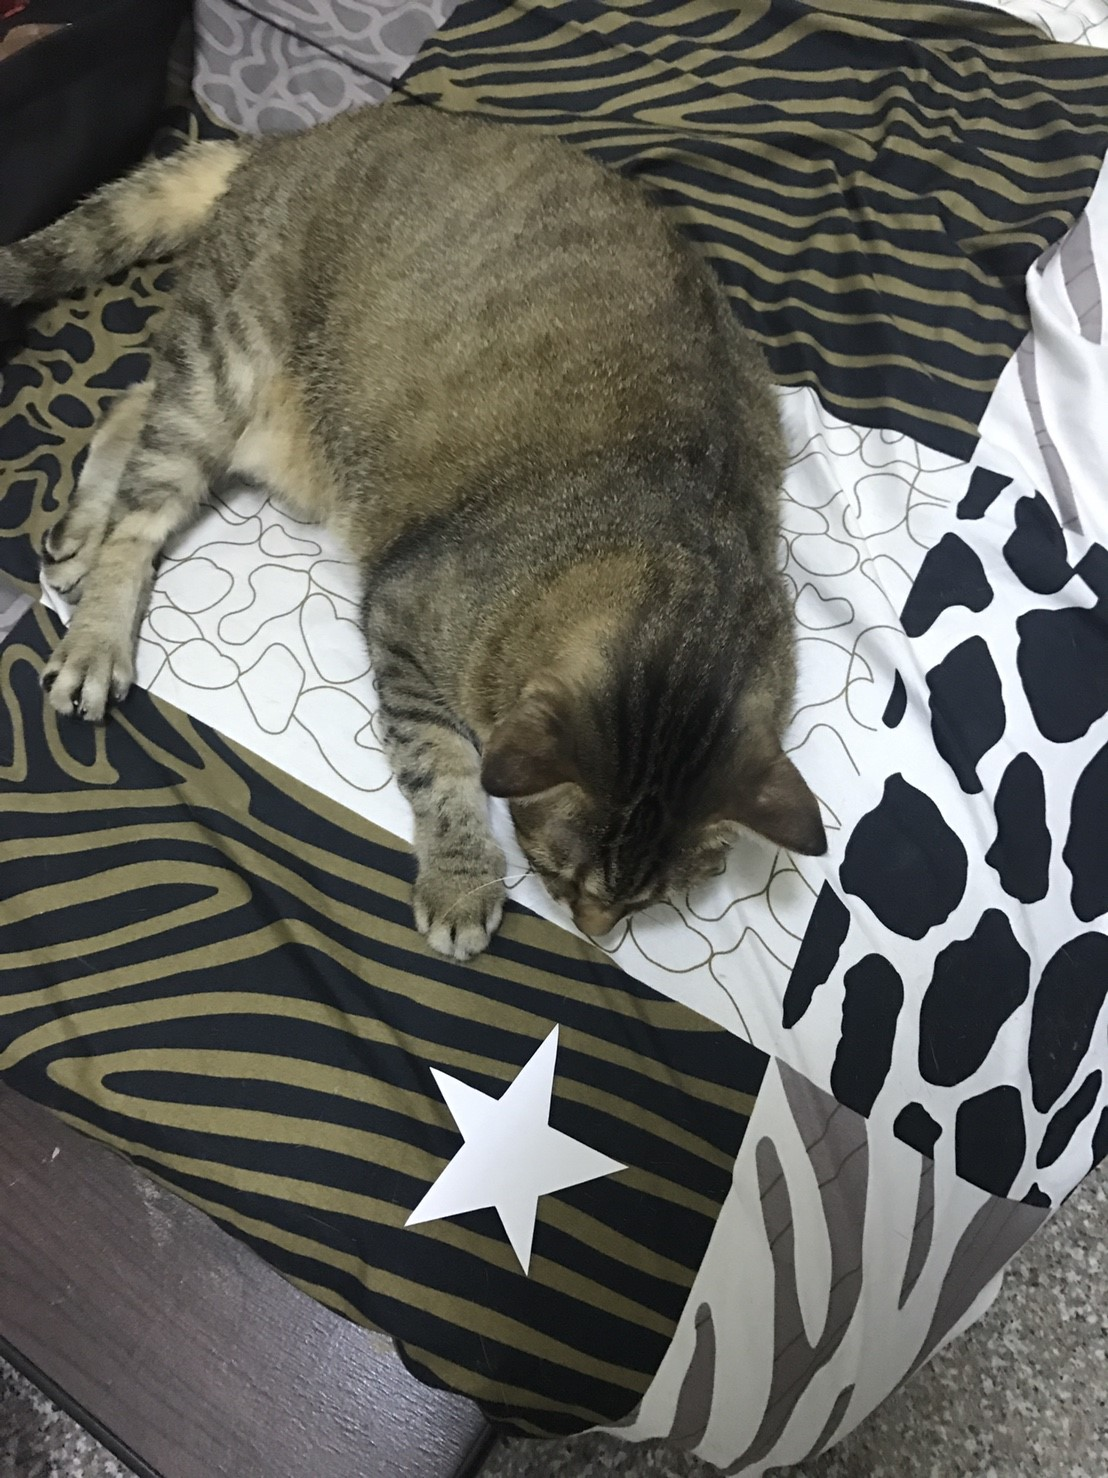star: (365, 1014, 625, 1285)
